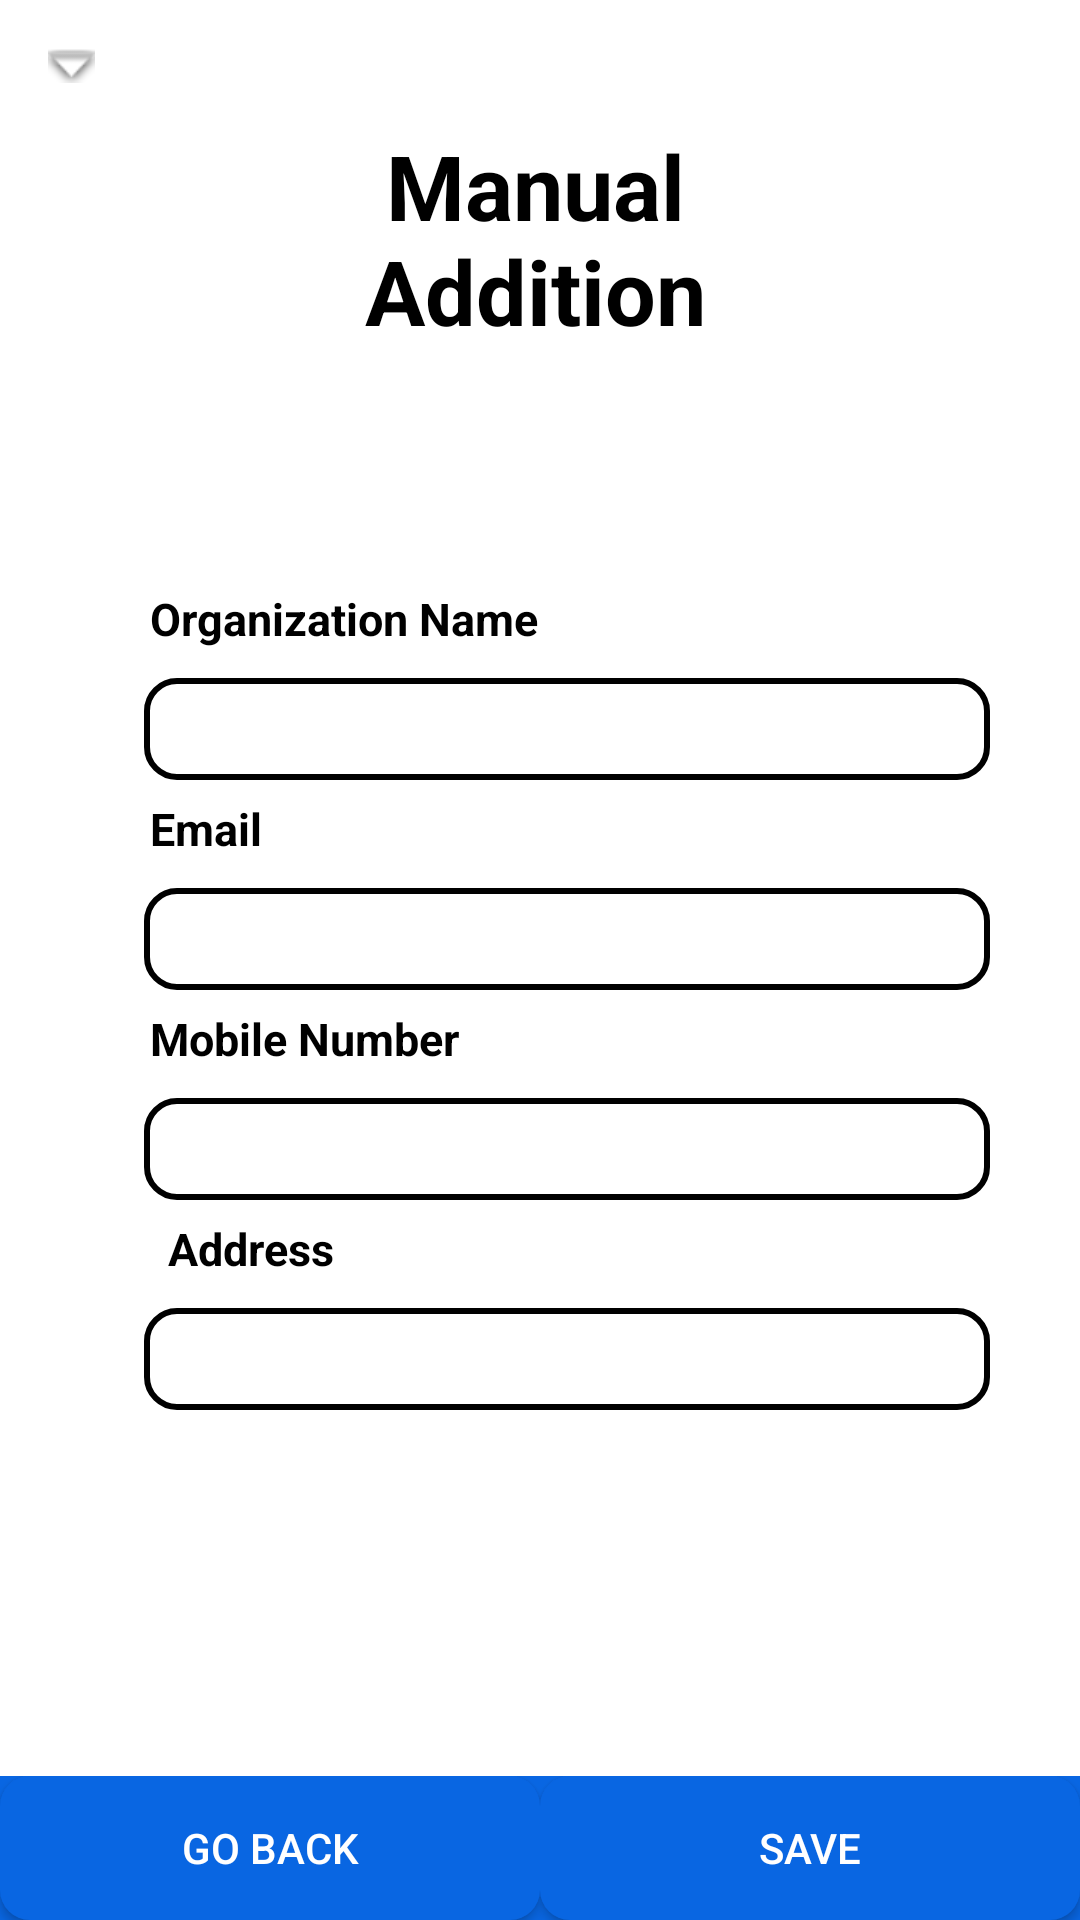

Where icons sit on this 1080*1920 app screen, as (left=x1, top=y1, right=x2, bottom=y2):
arrow down float: (left=48, top=50, right=95, bottom=82)
